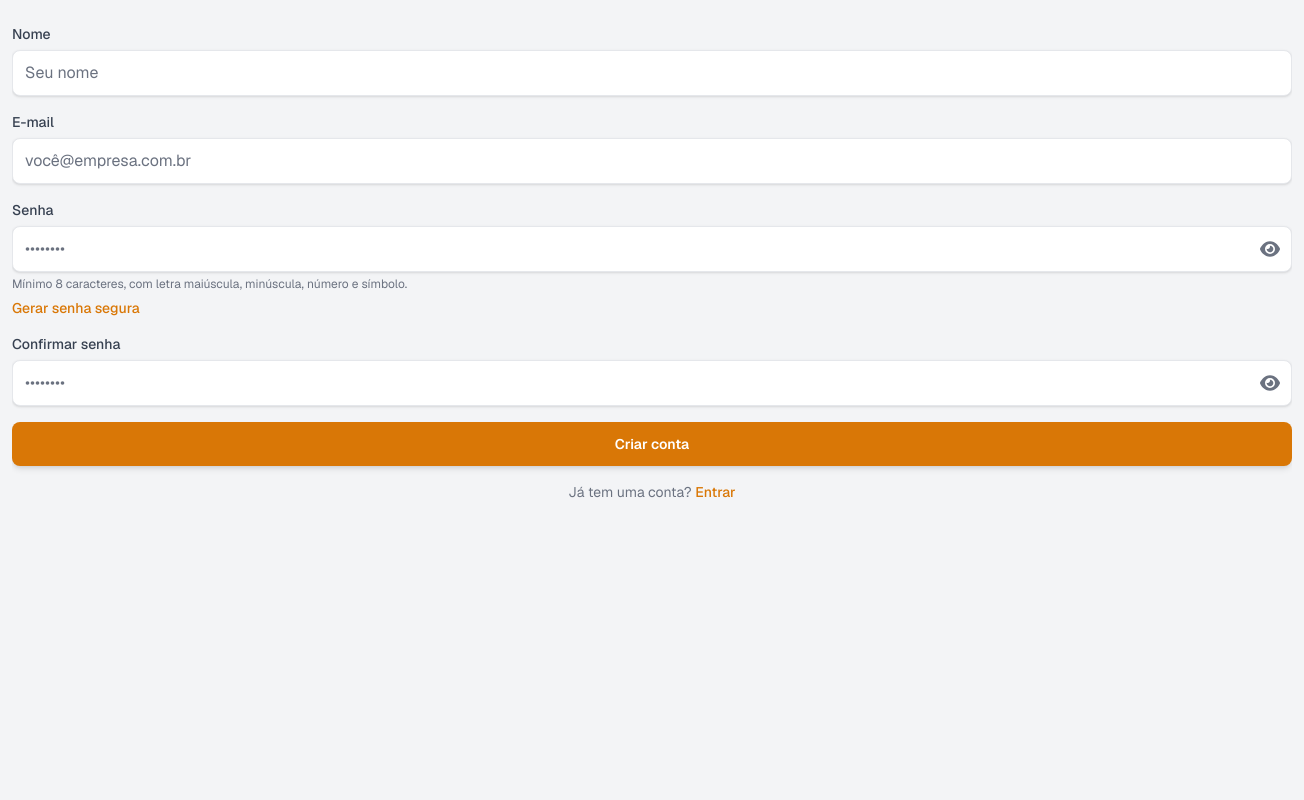
Test: RegisterForm › valida senhas diferentes no cliente
The image size is (1304, 800).
Type "a@b.com" into the field labelled "E-mail".
click(652, 161); type("a@b.com")  # box 12,138 -> 1292,184
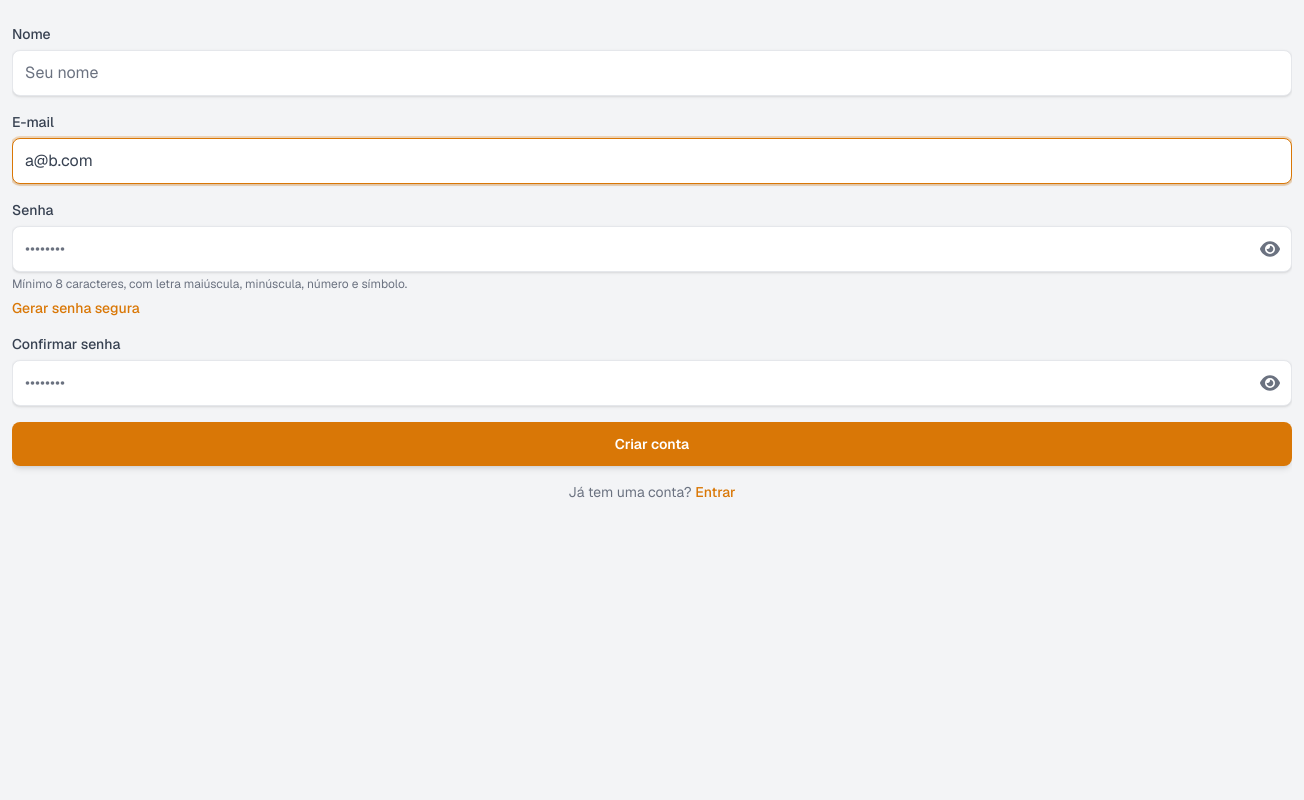
Type "SenhaForte1!" into the password field labelled "Senha".
click(652, 249); type("SenhaForte1!")  # box 12,226 -> 1292,272
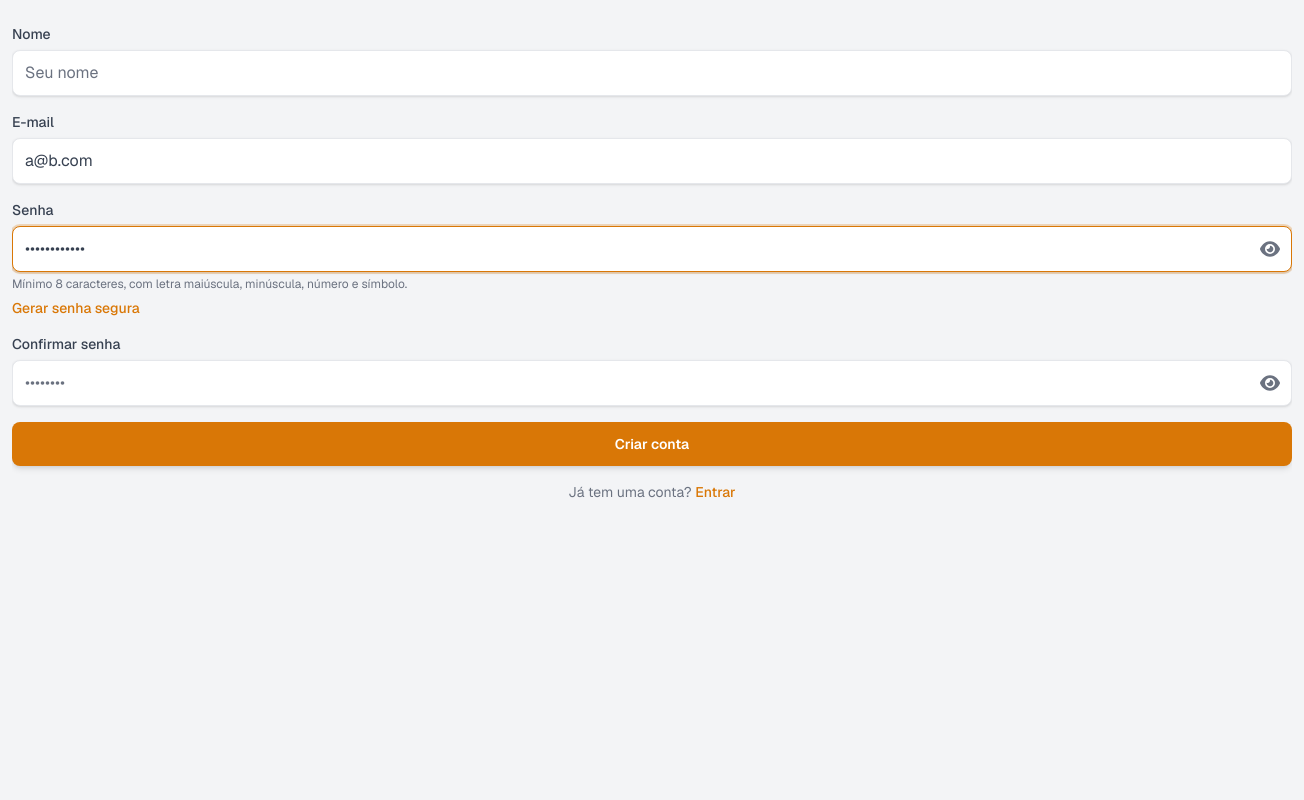
Type "OutraSenha1!" into the password field labelled "Confirmar senha".
click(652, 383); type("OutraSenha1!")  # box 12,360 -> 1292,406
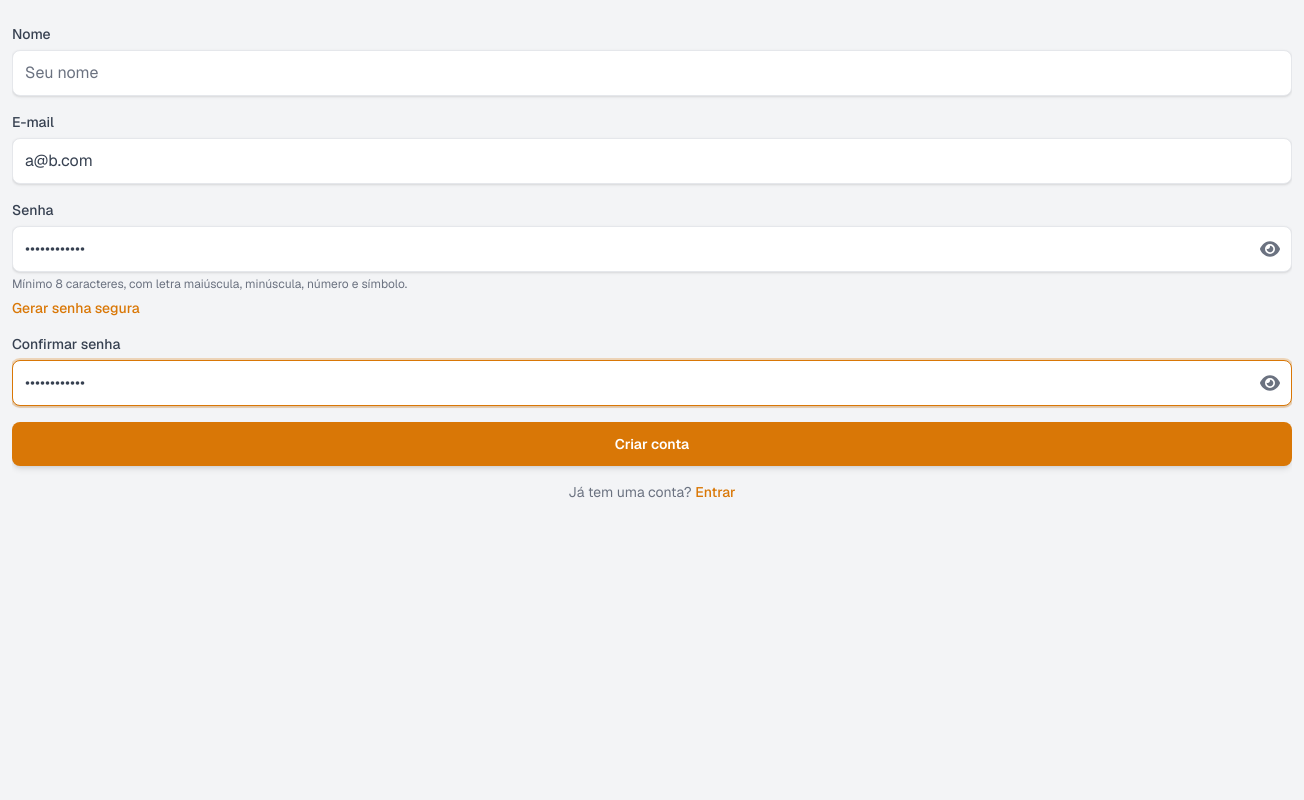
Click the button "Criar conta".
click(652, 444)  # box 12,422 -> 1292,466
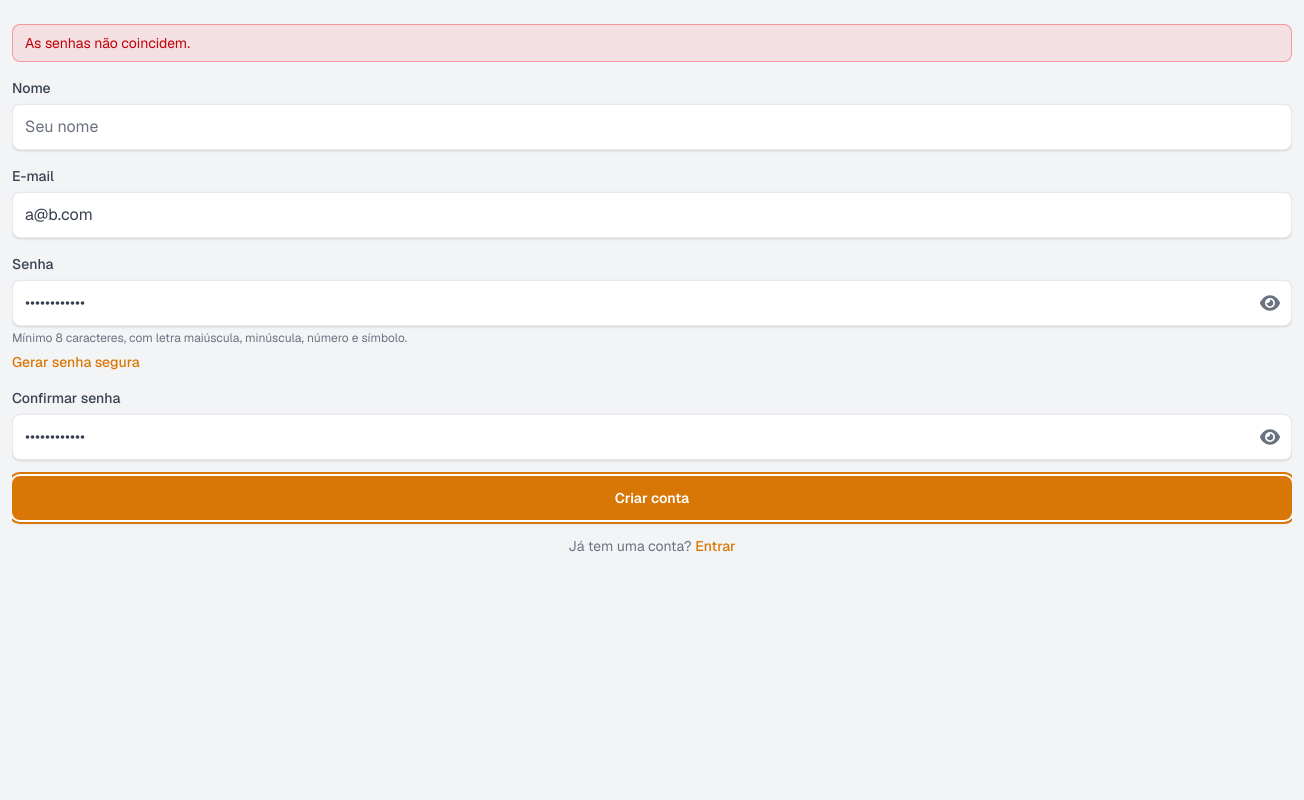
Expected: the message reads "As senhas não coincidem.", 25,34 -> 190,52
